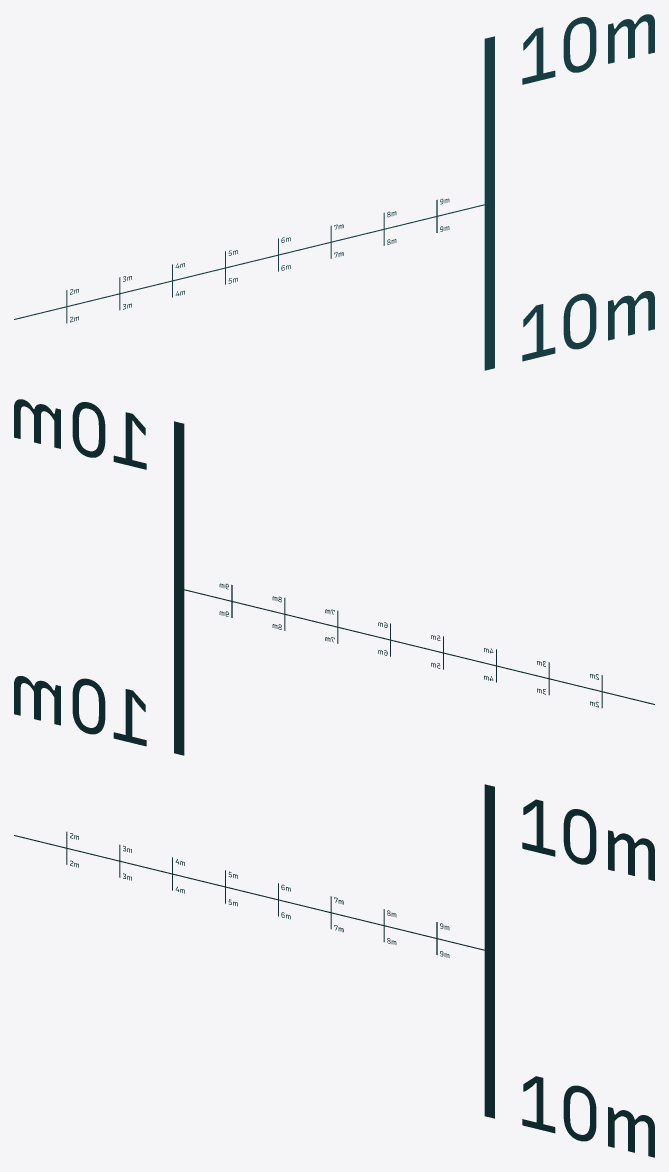
File: grid-vertical.glb
3 views of the same model, one above another, from view 1: azimuth 30°, elevation 25°; view 2: azimuth 150°, elevation 25°; view 3: azimuth 330°, elevation 25° (orthographic).
Visible parts, largest first — view 1: Plane.010, Text.009, Text.010, Plane; view 2: Plane.010, Text.009, Text.010, Plane; view 3: Plane.010, Text.010, Text.009, Plane.
Boxes of the visible parts, <box> form: Plane.010: <box>484,36,494,370</box>; Text.009: <box>522,14,654,84</box>; Text.010: <box>522,291,654,361</box>; Plane: <box>14,204,484,319</box>; Plane.010: <box>174,421,184,755</box>; Text.009: <box>14,399,146,469</box>; Text.010: <box>14,676,146,746</box>; Plane: <box>179,588,654,704</box>; Plane.010: <box>484,784,494,1118</box>; Text.010: <box>522,1076,654,1157</box>; Text.009: <box>522,799,654,880</box>; Plane: <box>14,835,484,950</box>.
Bounding box in the file's own units: 12.12 × 6.03 × 2.69e-07.
